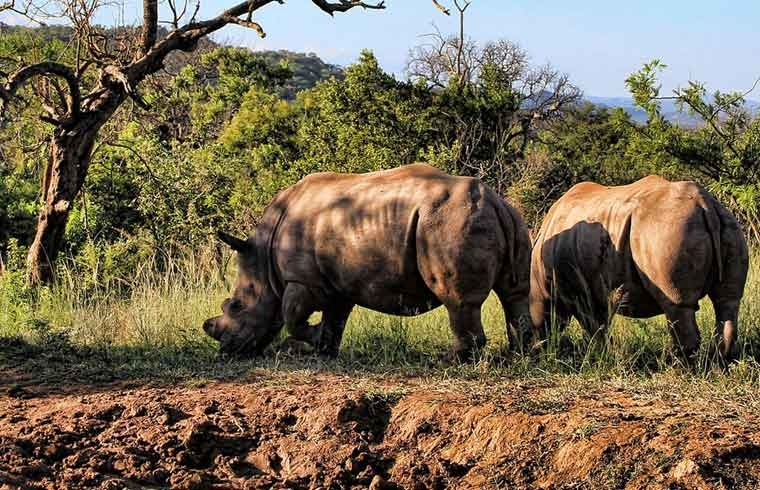rhino: (200, 160, 534, 378), (523, 172, 750, 369)
